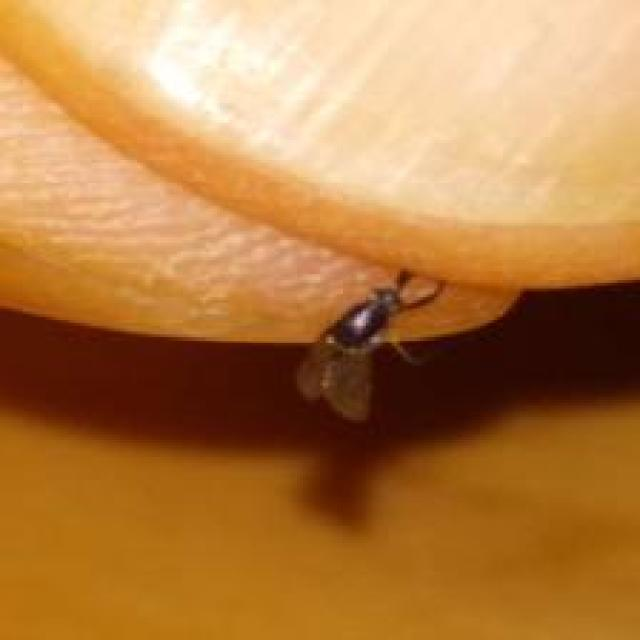Aedes albopictus: (0, 0, 640, 426)
